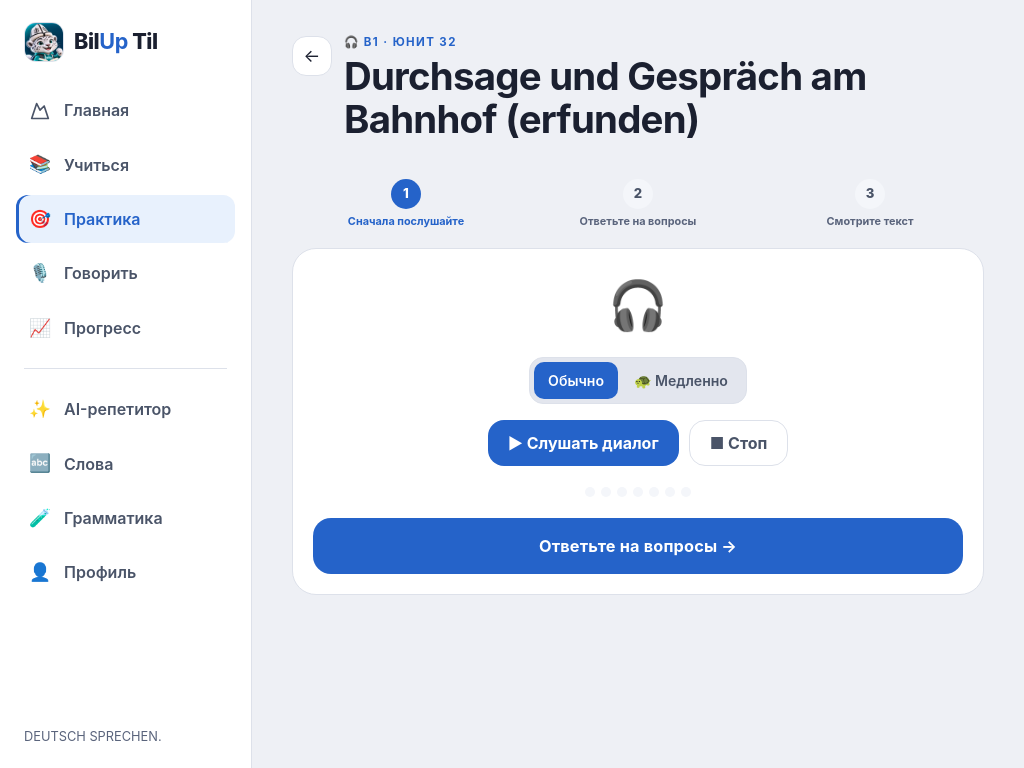
Scenario: reading and listening flows › ru: the listening shows the transcript only through the existing flow and offers the questions
Click the button "Ответьте на вопросы →" at (638, 546), box [313,518,963,574]
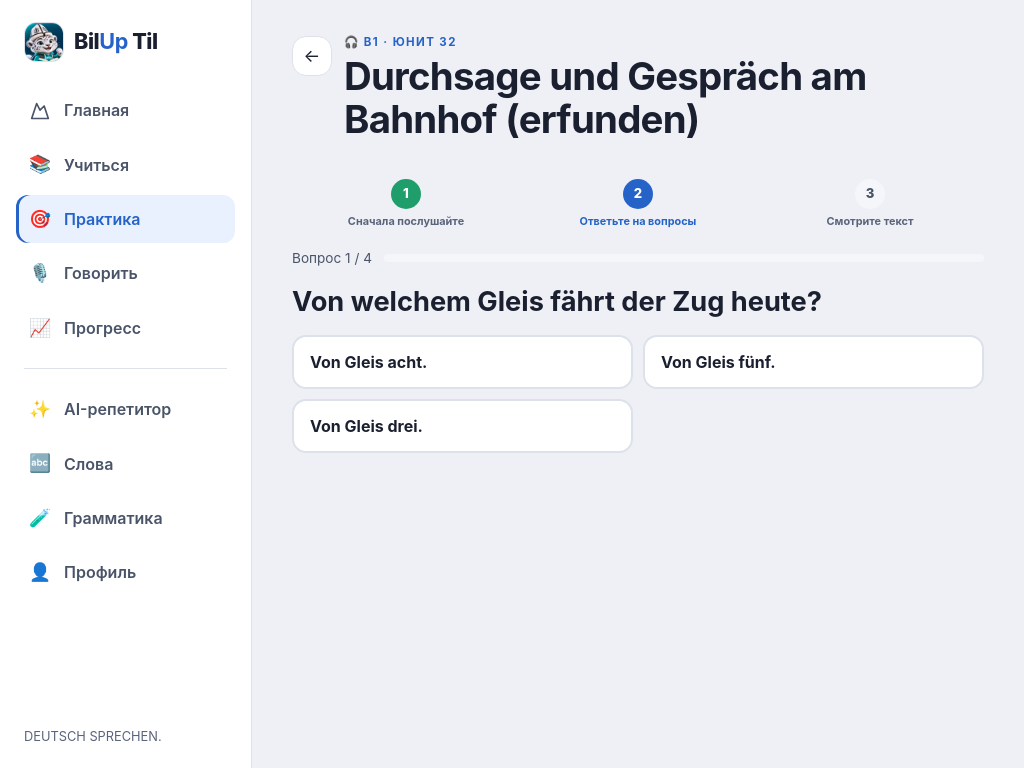
Expected: the text "Von welchem Gleis fährt der Zug heute?" is shown, [292,284,822,321]
